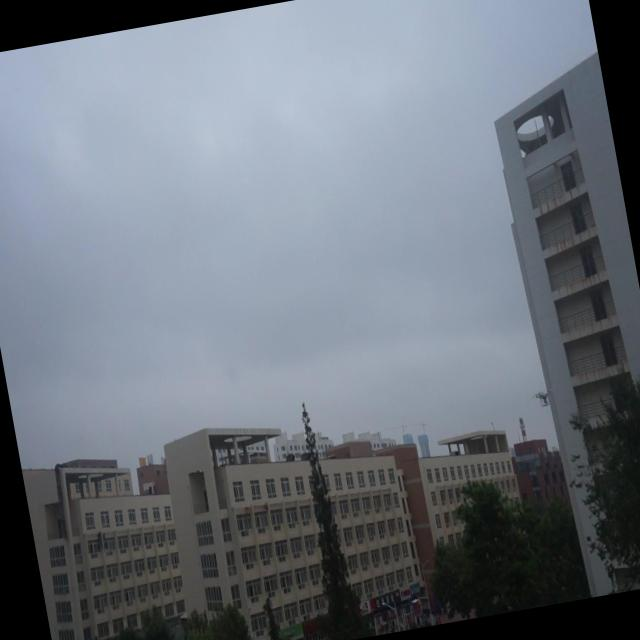drone: (532, 385, 553, 411)
